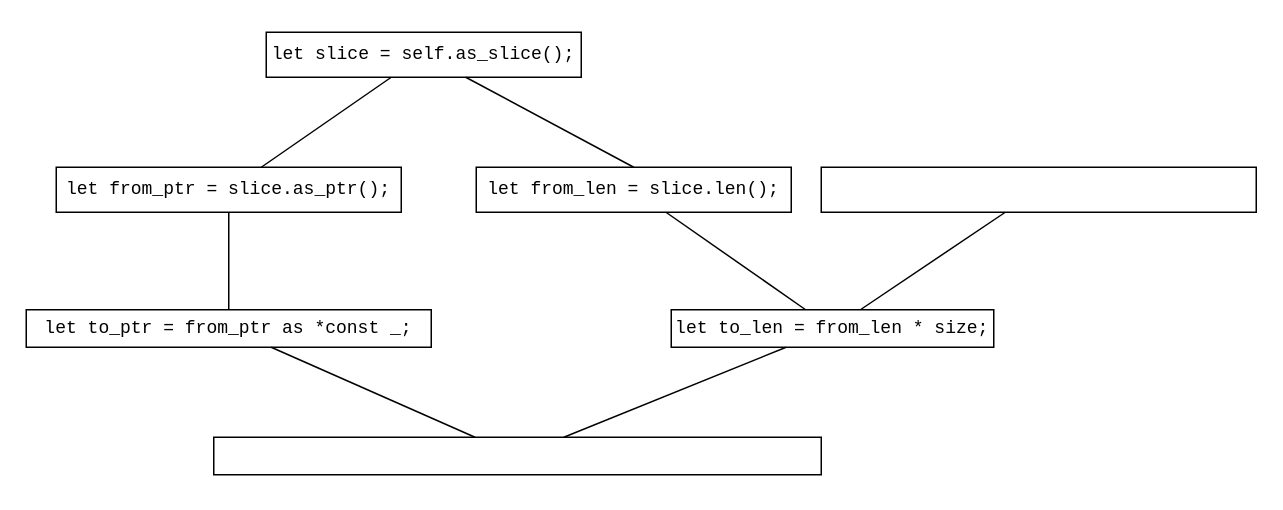
Image size: 1283x510. Some labels were removed from this diagram. The centre of each missing label's shape, as x and y in pixels:
"let size = core::mem::size_of::<T>();" belongs at (1038,189).
"let target = core::slice::from_raw_parts(to_ptr, to_len);" belongs at (516,455).
